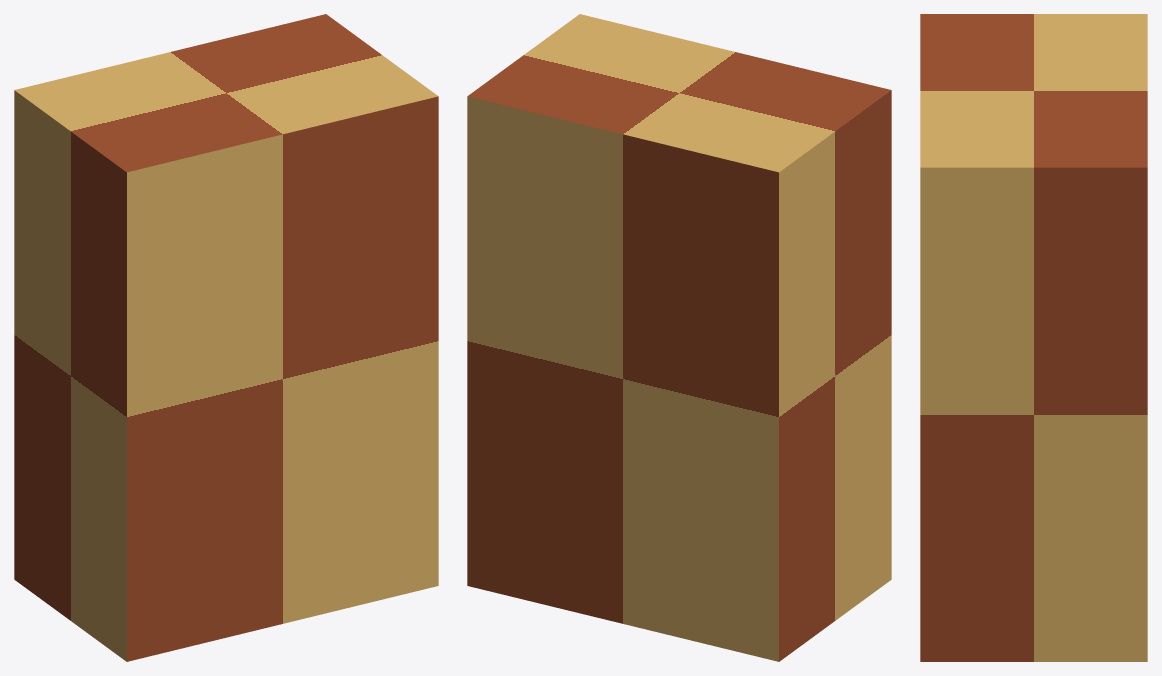
3 renders of one model, left to right at view 1: azimuth 30°, elevation 25°; view 2: azimuth 150°, elevation 25°; view 3: azimuth 270°, elevation 25°, orthographic.
Parts seen in each view (by area): view 1: Textured test box; view 2: Textured test box; view 3: Textured test box.
Part boxes in pixels (<box>): Textured test box: <box>14,14,438,661</box>; Textured test box: <box>467,14,891,661</box>; Textured test box: <box>920,14,1147,661</box>.
Size of the model in its own units: 0.8 by 1.2 by 0.5.
Materials: 1 (1 with a texture image).
